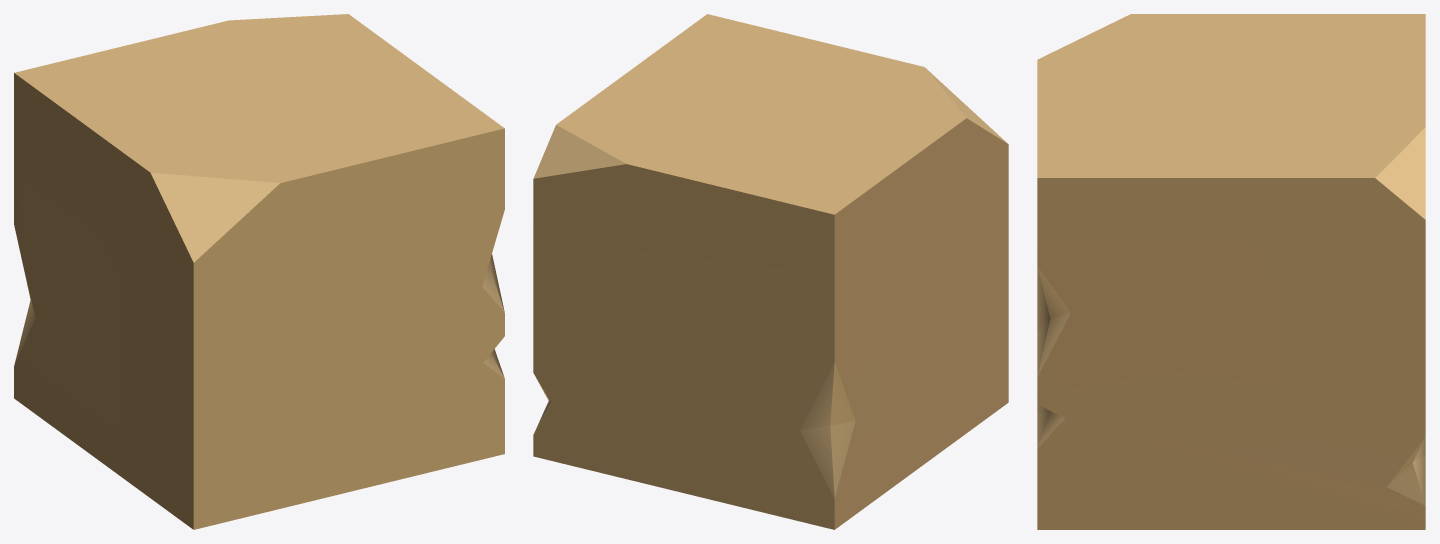
The model's file is ST_Env_Block_01.fbx.
3 views of the same model, side by side, from view 1: azimuth 30°, elevation 25°; view 2: azimuth 150°, elevation 25°; view 3: azimuth 270°, elevation 25° (orthographic). The views are drawn at different scales.
Parts seen in each view (by area): view 1: ST_Env_Block_01; view 2: ST_Env_Block_01; view 3: ST_Env_Block_01.
Boxes of the visible parts, left/top/right/bottom form: ST_Env_Block_01: left=14, top=14, right=504, bottom=529; ST_Env_Block_01: left=533, top=14, right=1008, bottom=529; ST_Env_Block_01: left=1037, top=14, right=1425, bottom=529.
Bounding box in the file's own units: 2 × 2 × 2.
